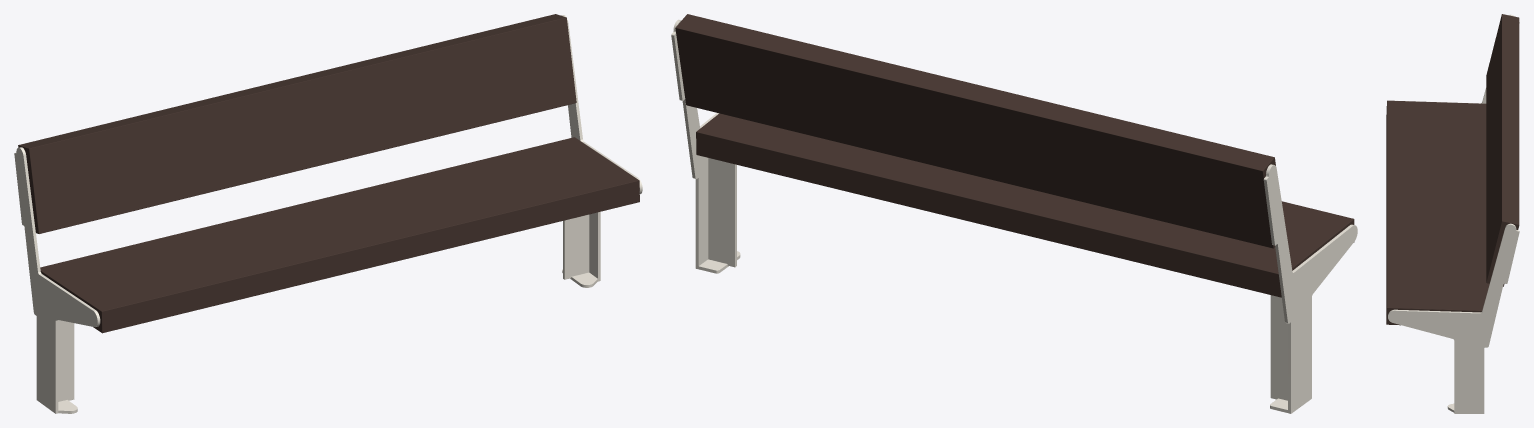
Rendered from G6_std.glb.
3 renders of one model, left to right at view 1: azimuth 30°, elevation 25°; view 2: azimuth 150°, elevation 25°; view 3: azimuth 270°, elevation 25°, orthographic. The views are drawn at different scales.
Parts seen in each view (by area): view 1: G6_std; view 2: G6_std; view 3: G6_std.
Boxes of the visible parts, bbox=[...] form: G6_std: bbox=[14, 14, 642, 413]; G6_std: bbox=[671, 14, 1357, 413]; G6_std: bbox=[1386, 14, 1519, 413].
Bounding box in the file's own units: 1.99 × 0.8437 × 0.5322.
